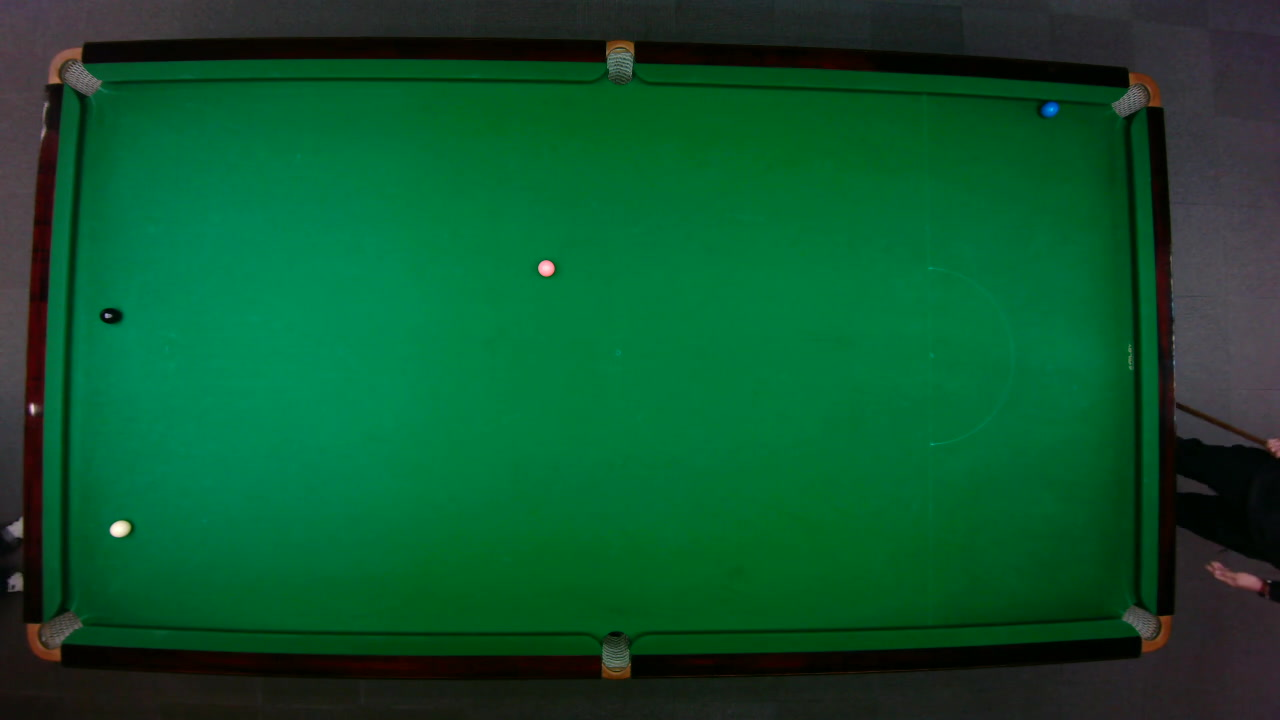bag: (25, 608, 84, 661), (46, 46, 102, 96), (1119, 603, 1172, 652), (1108, 71, 1161, 118), (600, 629, 629, 680), (605, 38, 633, 85)
black: (98, 306, 120, 324)
blue: (1039, 100, 1059, 117)
pink: (536, 258, 555, 277)
white: (108, 518, 132, 537)
zone: (926, 266, 1013, 445)
